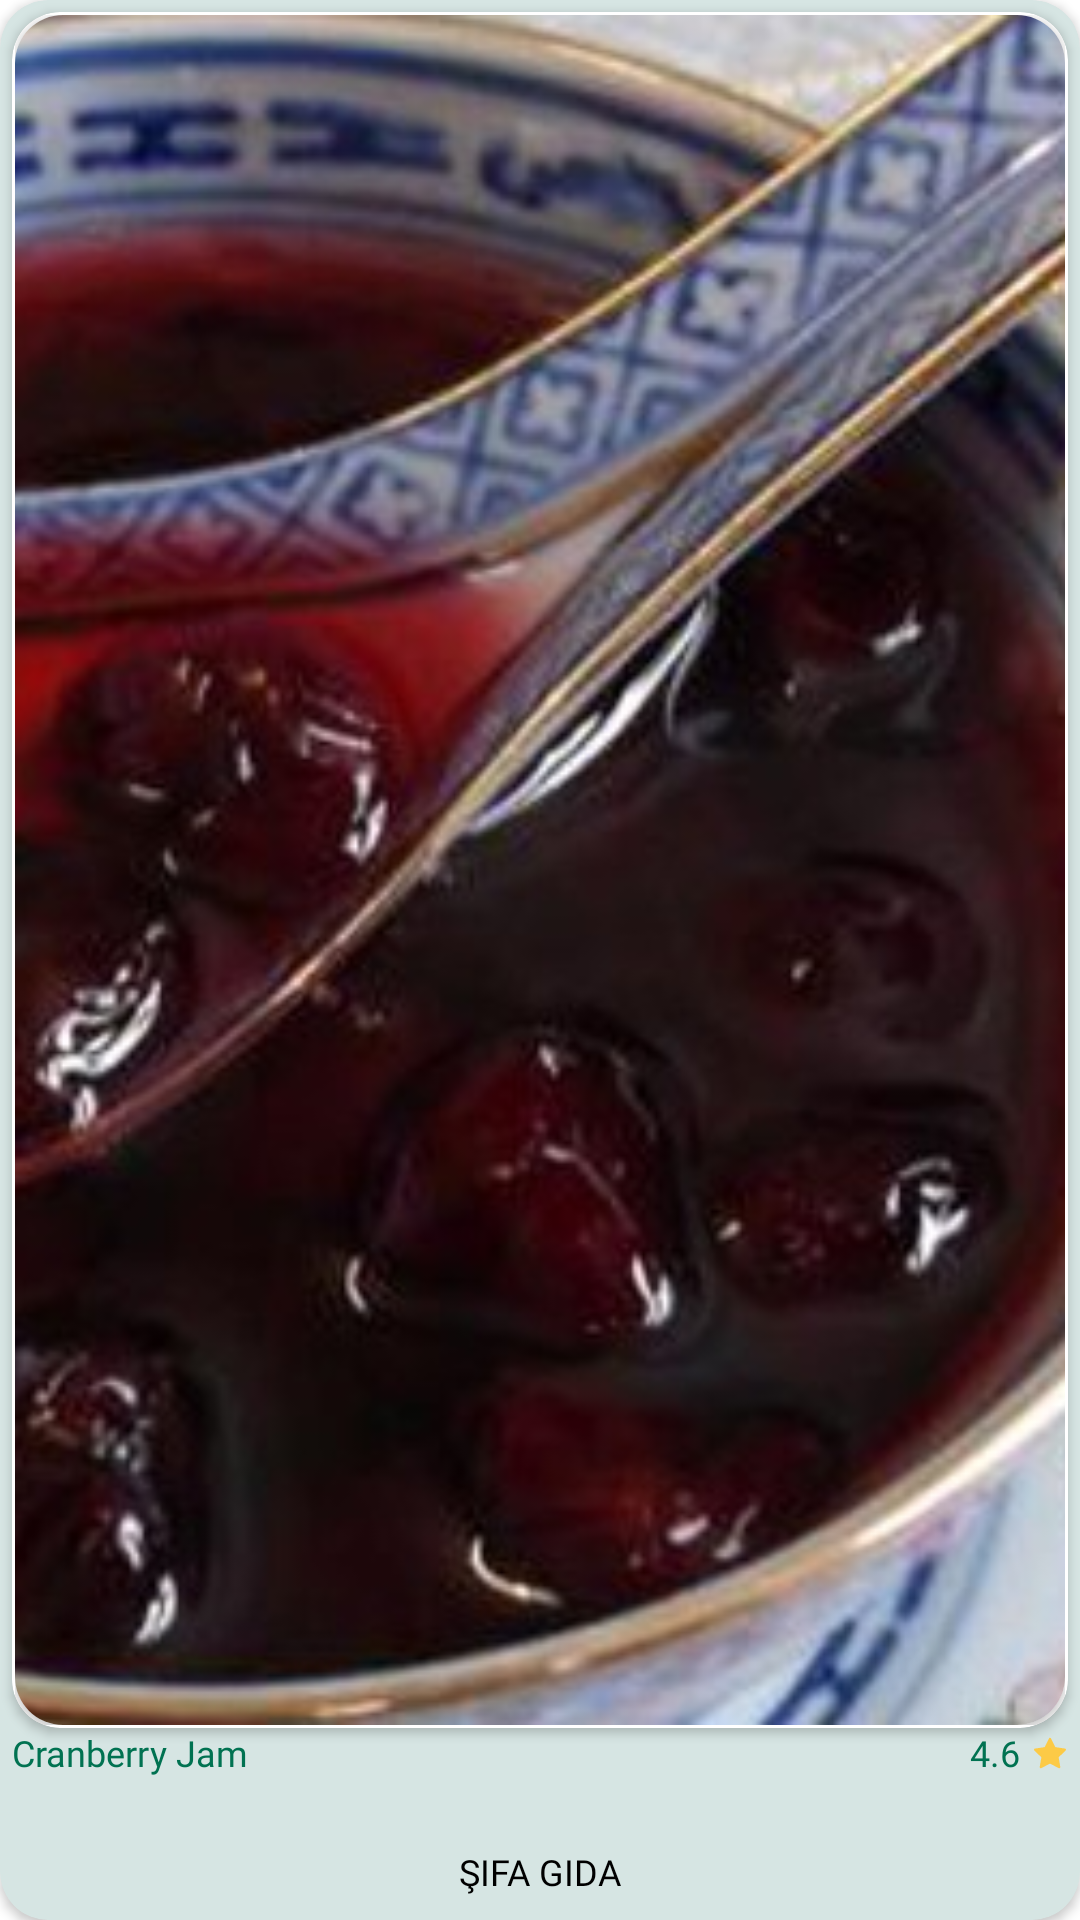

Where to tap for icons on this 1080*1920 app screen, as point (x, y):
star: point (1050, 1753)
